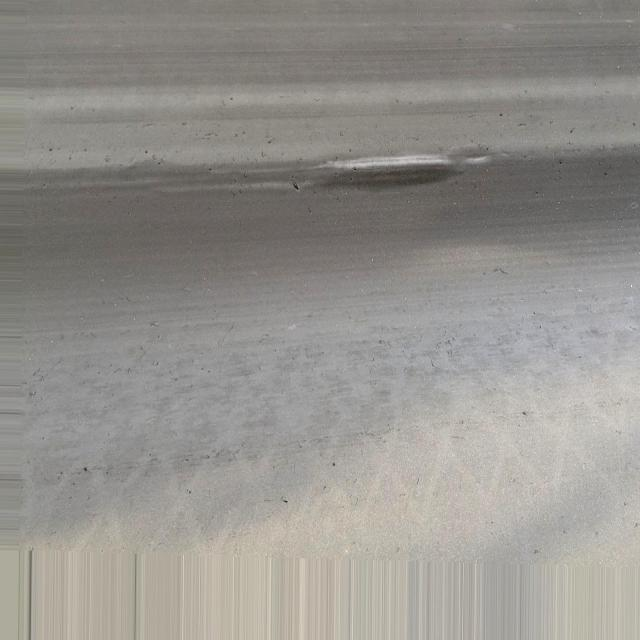Impact Damage: (327, 150, 488, 196)
